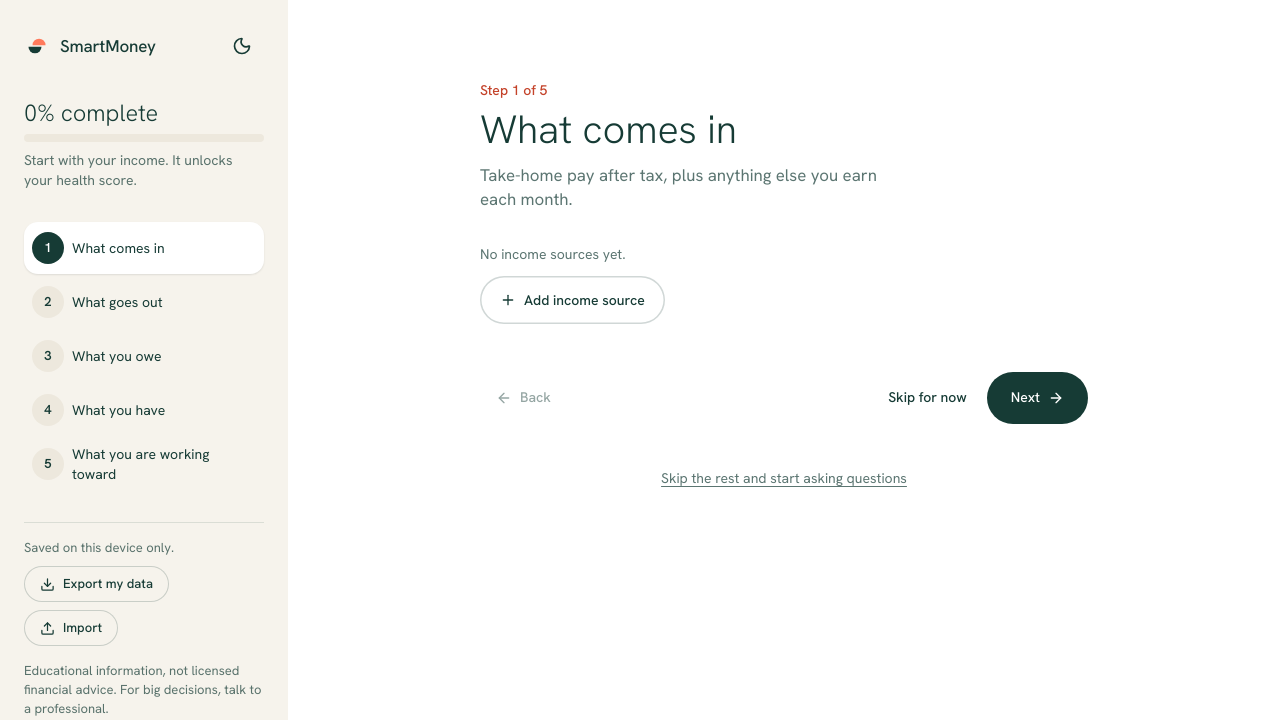
it: sheets › close on Escape and hand focus back to what opened them
This screenshot has width=1280, height=720.
Click the button "Skip the rest and start asking questions": [784, 478] box 661,456 -> 907,500
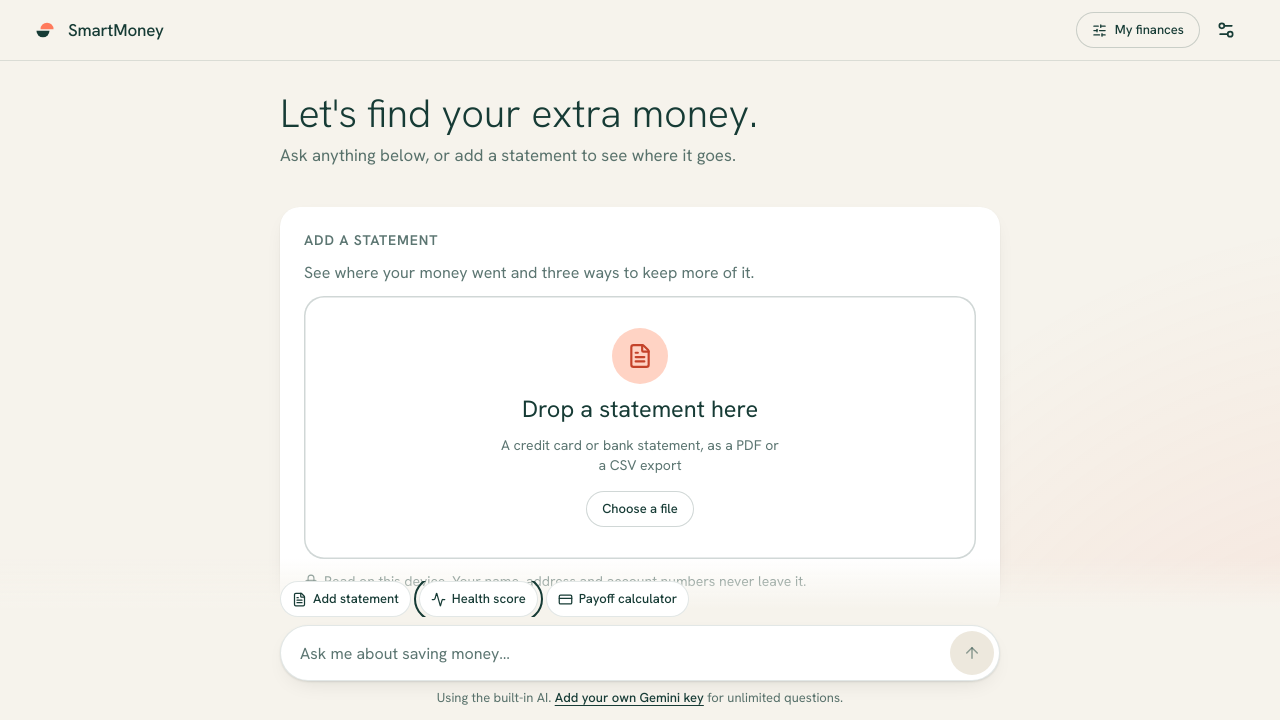
Click the button with aria-label "Financial Health Score": [478, 599] box 419,581 -> 538,617
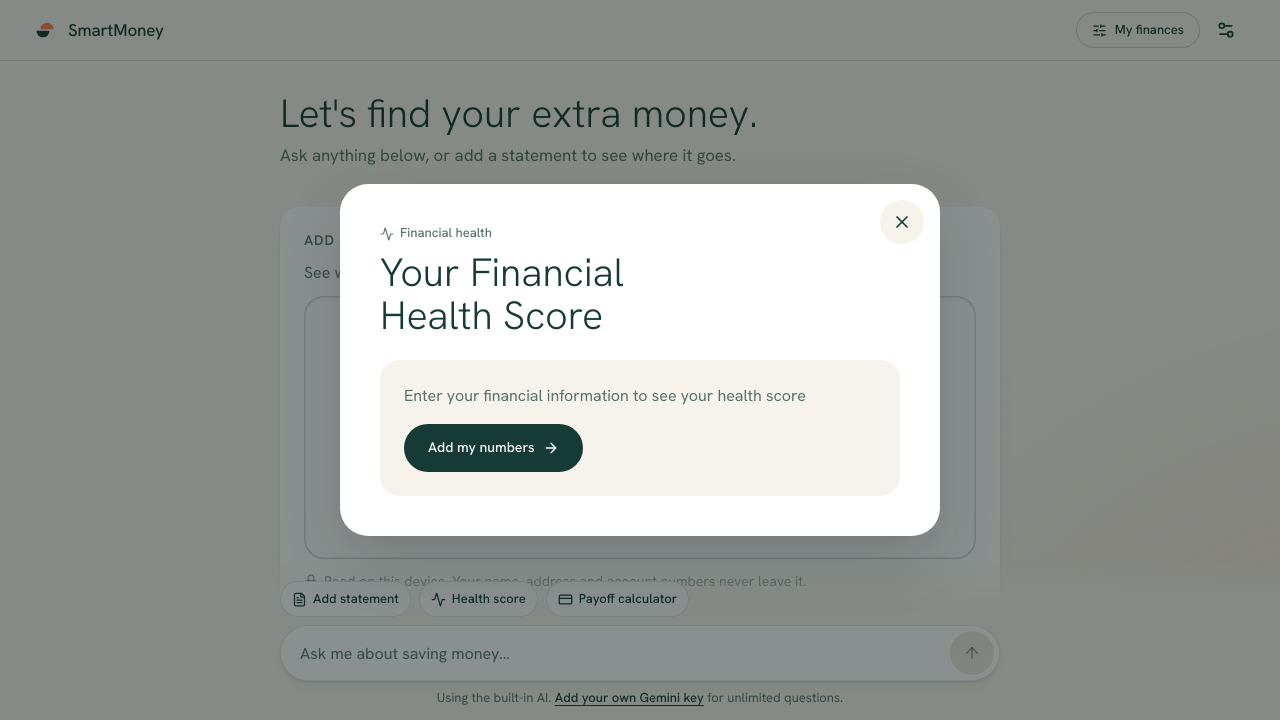
Press Escape
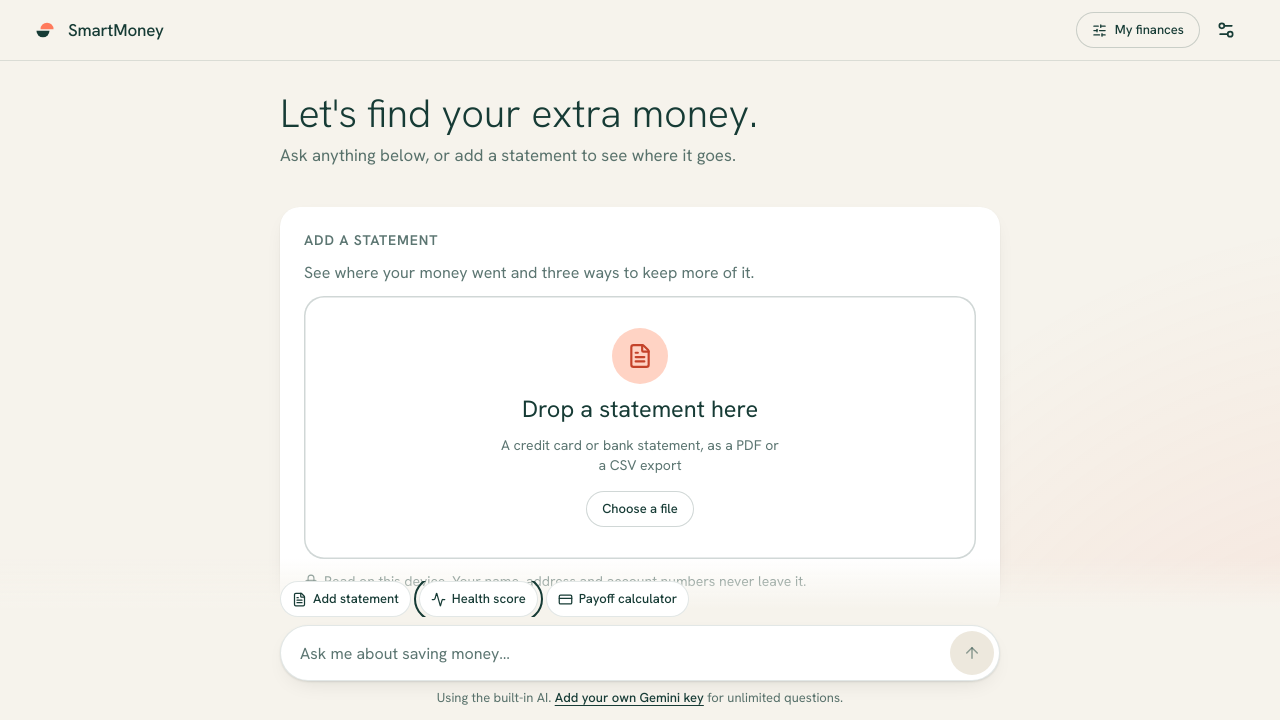
Check: the dialog is gone
